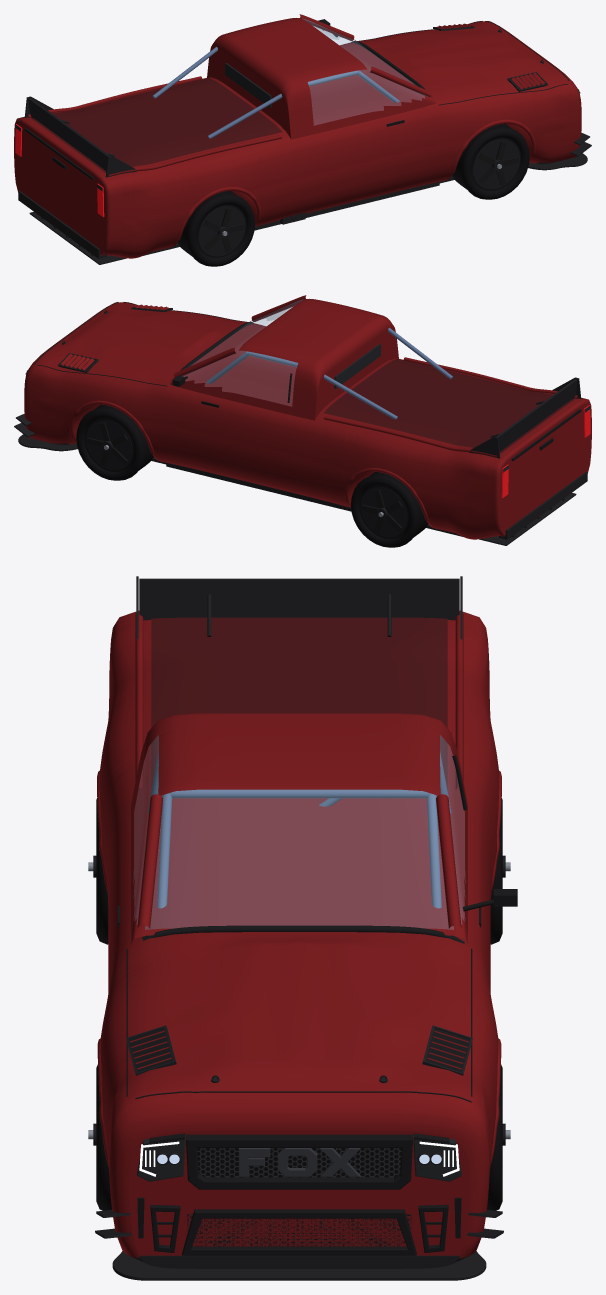
The model's file is truck_unpainted.glb.
3 views of the same model, one above another, from view 1: azimuth 30°, elevation 25°; view 2: azimuth 150°, elevation 25°; view 3: azimuth 270°, elevation 25° (orthographic). The views are drawn at different scales.
Visible parts, largest first — view 1: Body, Cab, BedFloor, Wheel_FR, Wheel_RR, SpoilerBlade, BedRail (×2), FenderLip (×2), RearBumper, APillar (×2), CageRearStay (×2), SideSkirt (+5 smaller); view 2: Body, Cab, BedFloor, Wheel_FL, Wheel_RL, SpoilerBlade, BedRail (×2), FenderLip (×2), RearBumper, SideSkirt, APillar (×2), CageRearStay (×2) (+4 smaller); view 3: Body, Cab, BedFloor, SpoilerBlade, GrilleSurround, Splitter, LowerIntakeSurround, LowerIntakeMesh, FrontValance, GrilleMesh, APillar (×2), BedRail (×2) (+9 smaller).
Part boxes in pixels (x1,y1,x2,y2): Body: (14, 21, 581, 258); Cab: (207, 18, 435, 139); BedFloor: (31, 78, 281, 172); Wheel_FR: (452, 123, 529, 199); Wheel_RR: (178, 191, 254, 266); SpoilerBlade: (28, 97, 109, 170); BedRail (×2): (28, 76, 282, 176); FenderLip (×2): (177, 119, 536, 239); RearBumper: (18, 191, 106, 258); APillar (×2): (299, 14, 431, 96); CageRearStay (×2): (152, 46, 282, 138); SideSkirt: (254, 182, 439, 230); Body: (24, 302, 591, 539); Cab: (170, 299, 398, 420); BedFloor: (324, 359, 574, 453); Wheel_FL: (76, 404, 153, 480); Wheel_RL: (351, 472, 427, 547); SpoilerBlade: (496, 378, 577, 451); BedRail (×2): (323, 357, 577, 457); FenderLip (×2): (69, 400, 428, 520); RearBumper: (499, 472, 587, 539); SideSkirt: (166, 463, 351, 511); APillar (×2): (174, 295, 306, 377); CageRearStay (×2): (323, 327, 453, 419); Body: (99, 611, 499, 1265); Cab: (131, 713, 467, 944); BedFloor: (151, 617, 447, 789); SpoilerBlade: (139, 578, 459, 620); GrilleSurround: (186, 1134, 412, 1189); Splitter: (112, 1251, 486, 1280); LowerIntakeSurround: (182, 1209, 416, 1255); LowerIntakeMesh: (187, 1214, 411, 1246); FrontValance: (139, 1255, 459, 1268); GrilleMesh: (193, 1148, 405, 1185); APillar (×2): (137, 794, 461, 928); BedRail (×2): (135, 611, 463, 789).
Size of the model in its own units: 5.64 by 1.7 by 2.14.
Materials: 19 (2 with a texture image).
